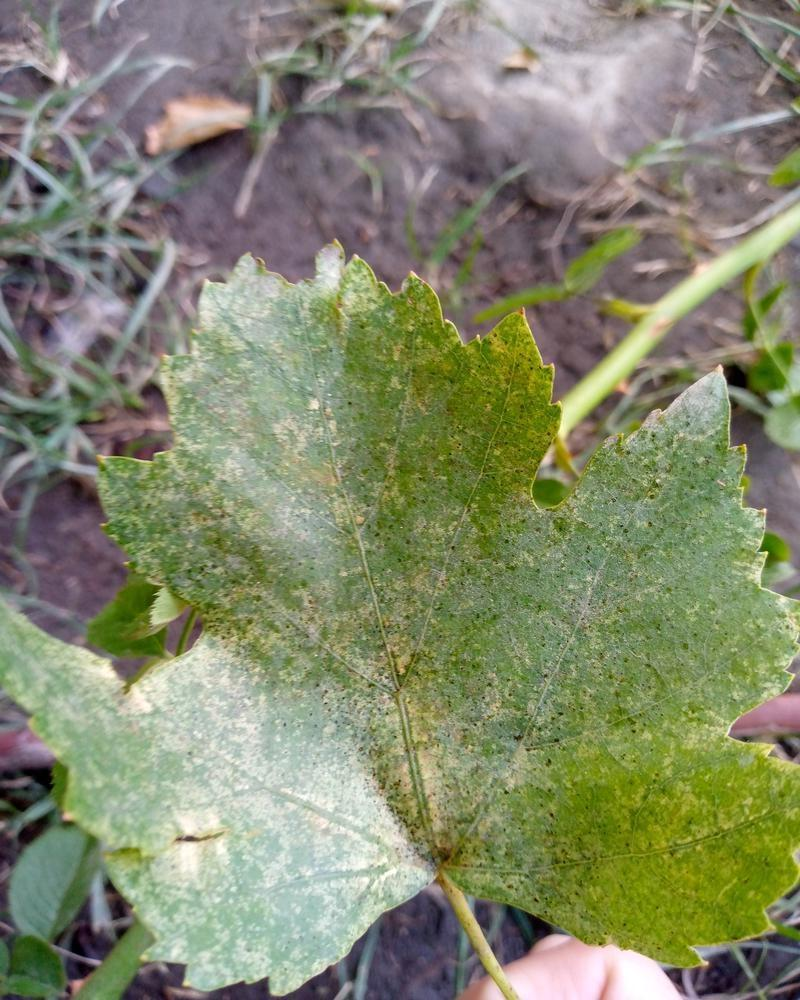Powdery-Mildew: (265, 752, 422, 951), (128, 650, 282, 769), (381, 674, 489, 830), (258, 408, 375, 530), (210, 276, 311, 401), (154, 797, 239, 887)
